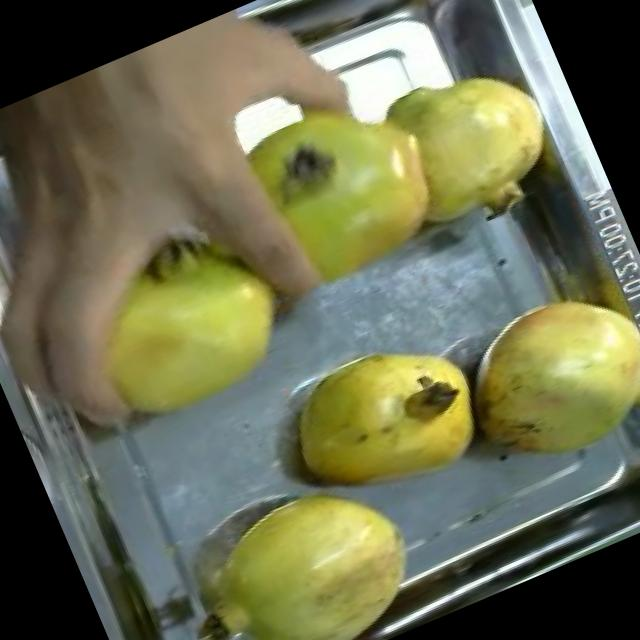fruit: (214, 43, 480, 311), (343, 26, 587, 267), (254, 306, 507, 536), (182, 445, 449, 640), (432, 255, 640, 496)
